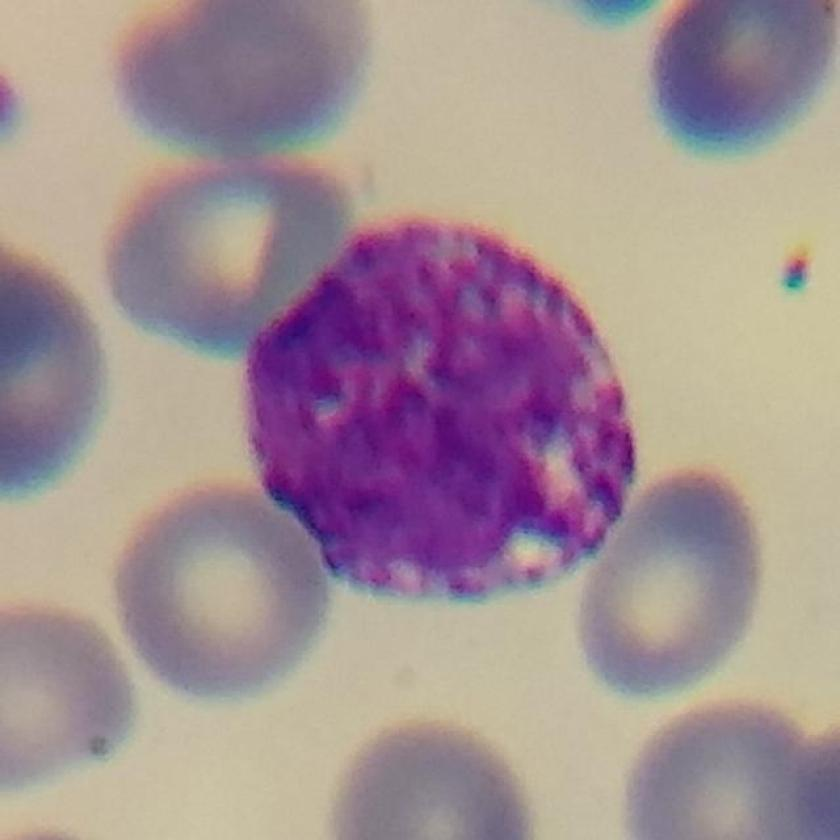basophil: (229, 214, 652, 621)
